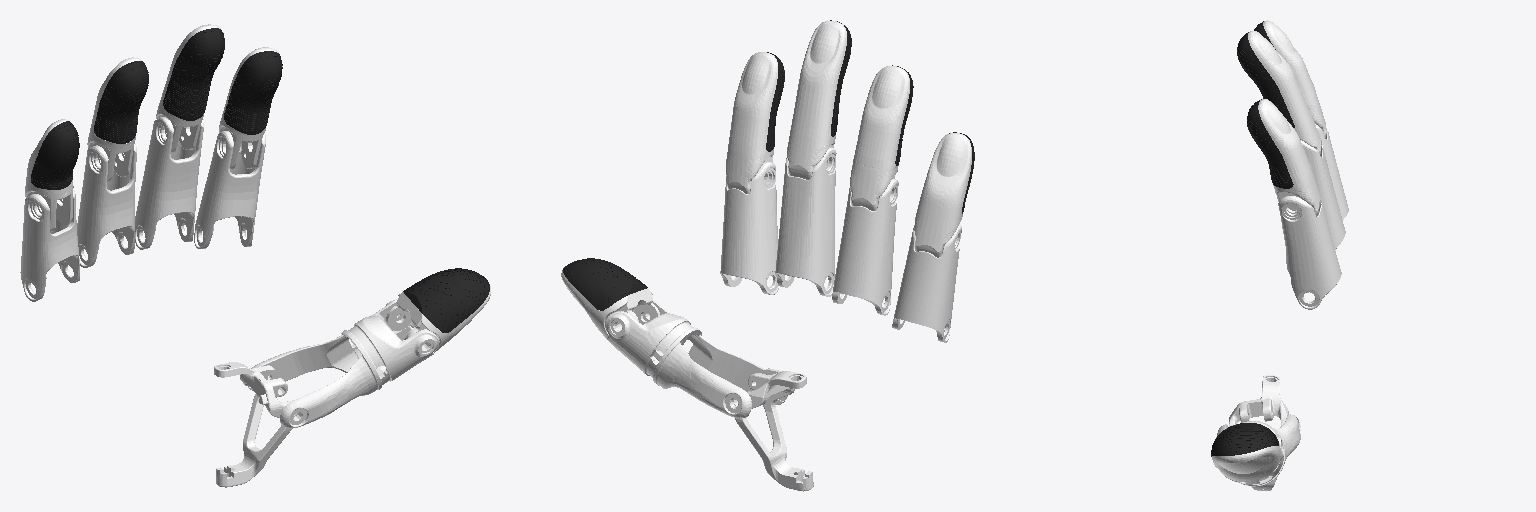
robot.urdf — DH116S-R000-A1:
<?xml version='1.0' encoding='UTF-8'?>
<!-- This URDF was automatically created by SolidWorks to URDF Exporter! Originally created by Stephen Brawner (brawner@gmail.com) 
     Commit Version: 1.6.0-4-g7f85cfe  Build Version: 1.6.7995.38578
     For more information, please see http://wiki.ros.org/sw_urdf_exporter --><robot name="DH116S-R000-A1">
  <!--
    Authoritative kinematic description for this hand is the MJCF model.

    Independent DOFs: finger11, finger12, finger21, finger31, finger41, finger51
    Passive follower joints:
      finger13 follows finger12
      finger22 follows finger21
      finger32 follows finger31
      finger42 follows finger41
      finger52 follows finger51

    Note: URDF mimic supports only linear coupling:
      q_follower = multiplier * q_driver + offset
    The MJCF model uses quadratic coupling for the passive joints. The mimic tags
    below therefore preserve the dependency and use least-squares linear fits over
    each driver's configured motion range, but they do not exactly reproduce the
    nonlinear MJCF equality constraints.
  -->
  <link name="base_link">
    <inertial>
      <origin xyz="0.000384322111287069 0.00753084251208742 0.0472909739889326" rpy="0 0 0"/>
      <mass value="0.109379461925353"/>
      <inertia ixx="4.8658626062114E-05" ixy="1.90165367140657E-07" ixz="4.76749750234747E-07" iyy="6.96839906122602E-05" iyz="-2.36133057842731E-06" izz="3.07683899448741E-05"/>
    </inertial>
    <visual>
      <origin xyz="0 0 0" rpy="0 0 0"/>
      <geometry>
        <mesh filename="package://DH116S-R000-A1/meshes/base_link.STL"/>
      </geometry>
      <material name="">
        <color rgba="1 1 1 1"/>
      </material>
    </visual>
    <collision>
      <origin xyz="0 0 0" rpy="0 0 0"/>
      <geometry>
        <mesh filename="package://DH116S-R000-A1/meshes/base_link.STL"/>
      </geometry>
    </collision>
  </link>
  <link name="finger11_link">
    <inertial>
      <origin xyz="-0.000106936701499152 -0.00887532166965714 0.00188503573341194" rpy="0 0 0"/>
      <mass value="0.00704884300354655"/>
      <inertia ixx="9.65962069608261E-07" ixy="-1.44438396657121E-08" ixz="-2.78802353633112E-08" iyy="9.82359201731221E-07" iyz="1.16859938665557E-07" izz="2.90732053006428E-07"/>
    </inertial>
    <visual>
      <origin xyz="0 0 0" rpy="0 0 0"/>
      <geometry>
        <mesh filename="package://DH116S-R000-A1/meshes/finger11_link.STL"/>
      </geometry>
      <material name="">
        <color rgba="1 1 1 1"/>
      </material>
    </visual>
    <collision>
      <origin xyz="0 0 0" rpy="0 0 0"/>
      <geometry>
        <mesh filename="package://DH116S-R000-A1/meshes/finger11_link.STL"/>
      </geometry>
    </collision>
  </link>
  <joint name="finger11" type="revolute">
    <origin xyz="0.019011443942029 -0.00780399999999971 0.0343199999999998" rpy="0 0 1.4189526818714"/>
    <parent link="base_link"/>
    <child link="finger11_link"/>
    <axis xyz="0 0 -1"/>
    <limit lower="0" upper="1.527163" effort="0" velocity="0"/>
  </joint>
  <link name="finger12_link">
    <inertial>
      <origin xyz="0.00575146979629403 -0.00980743444616855 0.019859071306553" rpy="0 0 0"/>
      <mass value="0.00572064501582461"/>
      <inertia ixx="1.07119834760592E-06" ixy="4.58213387989754E-08" ixz="-7.67707579266534E-08" iyy="1.23181109053526E-06" iyz="3.23507378708491E-07" izz="6.0079268566964E-07"/>
    </inertial>
    <visual>
      <origin xyz="0 0 0" rpy="0 0 0"/>
      <geometry>
        <mesh filename="package://DH116S-R000-A1/meshes/finger12_link.STL"/>
      </geometry>
      <material name="">
        <color rgba="1 1 1 1"/>
      </material>
    </visual>
    <collision>
      <origin xyz="0 0 0" rpy="0 0 0"/>
      <geometry>
        <mesh filename="package://DH116S-R000-A1/meshes/finger12_link.STL"/>
      </geometry>
    </collision>
  </link>
  <joint name="finger12" type="revolute">
    <origin xyz="-0.00241716818193387 -0.0149999999957004 0.00671430739411609" rpy="0.914460600969039 -0.26179938779915 0"/>
    <parent link="finger11_link"/>
    <child link="finger12_link"/>
    <axis xyz="-1 0 0"/>
    <limit lower="0" upper="1.134464" effort="0" velocity="0"/>
  </joint>
  <link name="finger13_link">
    <inertial>
      <origin xyz="0.00252081313880359 -0.00372563202308732 0.00904163814125886" rpy="0 0 0"/>
      <mass value="0.00512347606012059"/>
      <inertia ixx="2.40947986098038E-07" ixy="-5.09796574066595E-10" ixz="-9.60704042330482E-10" iyy="3.07751181192004E-07" iyz="-7.35260411693152E-09" izz="1.61697663271219E-07"/>
    </inertial>
    <visual>
      <origin xyz="0 0 0" rpy="0 0 0"/>
      <geometry>
        <mesh filename="package://DH116S-R000-A1/meshes/finger13_link.STL"/>
      </geometry>
      <material name="">
        <color rgba="1 1 1 1"/>
      </material>
    </visual>
    <collision>
      <origin xyz="0 0 0" rpy="0 0 0"/>
      <geometry>
        <mesh filename="package://DH116S-R000-A1/meshes/finger13_link.STL"/>
      </geometry>
    </collision>
  </link>
  <joint name="finger13" type="revolute">
    <origin xyz="0.00598654106733671 -0.0125165261747051 0.0381626484720598" rpy="0.382919042912385 0.147573481949468 0.0154304498115495"/>
    <parent link="finger12_link"/>
    <child link="finger13_link"/>
    <axis xyz="-1 0 0"/>
    <limit lower="0" upper="1.13" effort="0" velocity="0"/>
    <mimic joint="finger12" multiplier="0.8626" offset="-0.003015929"/>
  </joint>
  <link name="finger14_link">
    <inertial>
      <origin xyz="0.00249769126018826 0.00167067101210644 0.0123801371744446" rpy="0 0 0"/>
      <mass value="0.00240482348656883"/>
      <inertia ixx="6.51224324821768E-08" ixy="-2.76696868457692E-10" ixz="-6.12678170657889E-10" iyy="9.9767942266961E-08" iyz="3.06755746735259E-09" izz="5.5208299164458E-08"/>
    </inertial>
    <visual>
      <origin xyz="0 0 0" rpy="0 0 0"/>
      <geometry>
        <mesh filename="package://DH116S-R000-A1/meshes/finger14_link.STL"/>
      </geometry>
      <material name="">
        <color rgba="0.2 0.2 0.2 1"/>
      </material>
    </visual>
    <collision>
      <origin xyz="0 0 0" rpy="0 0 0"/>
      <geometry>
        <mesh filename="package://DH116S-R000-A1/meshes/finger14_link.STL"/>
      </geometry>
    </collision>
  </link>
  <joint name="finger14" type="fixed">
    <origin xyz="0 0 0" rpy="0 0 0"/>
    <parent link="finger13_link"/>
    <child link="finger14_link"/>
    <axis xyz="0 0 0"/>
  </joint>
  <link name="finger21_link">
    <inertial>
      <origin xyz="0.00027210041910733 0.00170234735088368 0.014516323212758" rpy="0 0 0"/>
      <mass value="0.00393774528740839"/>
      <inertia ixx="3.16719166363702E-07" ixy="4.75695190346559E-09" ixz="1.33068275020846E-09" iyy="3.45533063039298E-07" iyz="7.7985196786372E-09" izz="1.51382459897184E-07"/>
    </inertial>
    <visual>
      <origin xyz="0 0 0" rpy="0 0 0"/>
      <geometry>
        <mesh filename="package://DH116S-R000-A1/meshes/finger21_link.STL"/>
      </geometry>
      <material name="">
        <color rgba="1 1 1 1"/>
      </material>
    </visual>
    <collision>
      <origin xyz="0 0 0" rpy="0 0 0"/>
      <geometry>
        <mesh filename="package://DH116S-R000-A1/meshes/finger21_link.STL"/>
      </geometry>
    </collision>
  </link>
  <joint name="finger21" type="revolute">
    <origin xyz="0.0262687686016299 0.00528244145664834 0.0838772330726273" rpy="0.184030828348921 0.0900710961718212 0"/>
    <parent link="base_link"/>
    <child link="finger21_link"/>
    <axis xyz="1 0 0"/>
    <limit lower="0" upper="1.256637" effort="0" velocity="0"/>
  </joint>
  <link name="finger22_link">
    <inertial>
      <origin xyz="0.000180892622891587 0.00133699393436336 0.010912976228776" rpy="0 0 0"/>
      <mass value="0.00359509305446838"/>
      <inertia ixx="3.71495920772452E-07" ixy="3.3566423592835E-10" ixz="8.81868087157963E-09" iyy="3.74339102526511E-07" iyz="4.09550241976548E-08" izz="6.27179802580373E-08"/>
    </inertial>
    <visual>
      <origin xyz="0 0 0" rpy="0 0 0"/>
      <geometry>
        <mesh filename="package://DH116S-R000-A1/meshes/finger22_link.STL"/>
      </geometry>
      <material name="">
        <color rgba="1 1 1 1"/>
      </material>
    </visual>
    <collision>
      <origin xyz="0 0 0" rpy="0 0 0"/>
      <geometry>
        <mesh filename="package://DH116S-R000-A1/meshes/finger22_link.STL"/>
      </geometry>
    </collision>
  </link>
  <joint name="finger22" type="revolute">
    <origin xyz="0 0 0.028026675184573" rpy="0 0 0"/>
    <parent link="finger21_link"/>
    <child link="finger22_link"/>
    <axis xyz="1 0 0"/>
    <limit lower="0" upper="1.75" effort="0" velocity="0"/>
    <mimic joint="finger21" multiplier="1.4238" offset="-0.064994316"/>
  </joint>
  <link name="finger23_link">
    <inertial>
      <origin xyz="-0.000690109619396834 -0.00377783340062988 0.0191163501361598" rpy="0 0 0"/>
      <mass value="0.00194916130998001"/>
      <inertia ixx="9.25442673743886E-08" ixy="3.79093542922402E-10" ixz="3.55204790224285E-09" iyy="9.46455434630362E-08" iyz="2.17891055188829E-08" izz="3.02508825822761E-08"/>
    </inertial>
    <visual>
      <origin xyz="0 0 0" rpy="0 0 0"/>
      <geometry>
        <mesh filename="package://DH116S-R000-A1/meshes/finger23_link.STL"/>
      </geometry>
      <material name="">
        <color rgba="0.2 0.2 0.2 1"/>
      </material>
    </visual>
    <collision>
      <origin xyz="0 0 0" rpy="0 0 0"/>
      <geometry>
        <mesh filename="package://DH116S-R000-A1/meshes/finger23_link.STL"/>
      </geometry>
    </collision>
  </link>
  <joint name="finger23" type="fixed">
    <origin xyz="0 0 0" rpy="0 0 0"/>
    <parent link="finger22_link"/>
    <child link="finger23_link"/>
    <axis xyz="0 0 0"/>
  </joint>
  <link name="finger31_link">
    <inertial>
      <origin xyz="-2.41743304470188E-06 0.0016881536103133 0.0166092629083552" rpy="0 0 0"/>
      <mass value="0.00465632374460654"/>
      <inertia ixx="4.64032038497059E-07" ixy="-6.14756143609671E-11" ixz="5.30642140220418E-11" iyy="4.96217078056825E-07" iyz="1.19847357277137E-08" izz="1.78406731079551E-07"/>
    </inertial>
    <visual>
      <origin xyz="0 0 0" rpy="0 0 0"/>
      <geometry>
        <mesh filename="package://DH116S-R000-A1/meshes/finger31_link.STL"/>
      </geometry>
      <material name="">
        <color rgba="1 1 1 1"/>
      </material>
    </visual>
    <collision>
      <origin xyz="0 0 0" rpy="0 0 0"/>
      <geometry>
        <mesh filename="package://DH116S-R000-A1/meshes/finger31_link.STL"/>
      </geometry>
    </collision>
  </link>
  <joint name="finger31" type="revolute">
    <origin xyz="0.00874401205559361 0.00650966935499851 0.0881661201014335" rpy="0.175821944347936 0.05205044550937 -0.0495268334341439"/>
    <parent link="base_link"/>
    <child link="finger31_link"/>
    <axis xyz="1 0 0"/>
    <limit lower="0" upper="1.256637" effort="0" velocity="0"/>
  </joint>
  <link name="finger32_link">
    <inertial>
      <origin xyz="-4.52052482557974E-07 0.000239188481448136 0.0125647103929899" rpy="0 0 0"/>
      <mass value="0.00396485659955852"/>
      <inertia ixx="5.13613810914939E-07" ixy="-3.89316581101276E-10" ixz="1.51691231313048E-09" iyy="5.04420042058448E-07" iyz="9.32849272033081E-08" izz="8.36320010149996E-08"/>
    </inertial>
    <visual>
      <origin xyz="0 0 0" rpy="0 0 0"/>
      <geometry>
        <mesh filename="package://DH116S-R000-A1/meshes/finger32_link.STL"/>
      </geometry>
      <material name="">
        <color rgba="1 1 1 1"/>
      </material>
    </visual>
    <collision>
      <origin xyz="0 0 0" rpy="0 0 0"/>
      <geometry>
        <mesh filename="package://DH116S-R000-A1/meshes/finger32_link.STL"/>
      </geometry>
    </collision>
  </link>
  <joint name="finger32" type="revolute">
    <origin xyz="0 -0.000265259842373017 0.0325298807757662" rpy="0 0 0"/>
    <parent link="finger31_link"/>
    <child link="finger32_link"/>
    <axis xyz="1 0 0"/>
    <limit lower="0" upper="1.75" effort="0" velocity="0"/>
    <mimic joint="finger31" multiplier="1.451" offset="-0.075338882"/>
  </joint>
  <link name="finger33_link">
    <inertial>
      <origin xyz="1.11963736759702E-06 -0.00561969015110605 0.021082467343861" rpy="0 0 0"/>
      <mass value="0.00227280089263279"/>
      <inertia ixx="1.47858333672132E-07" ixy="1.18576994854538E-12" ixz="-4.80407376657536E-12" iyy="1.41914584192602E-07" iyz="4.17788434922029E-08" izz="4.21604565911276E-08"/>
    </inertial>
    <visual>
      <origin xyz="0 0 0" rpy="0 0 0"/>
      <geometry>
        <mesh filename="package://DH116S-R000-A1/meshes/finger33_link.STL"/>
      </geometry>
      <material name="">
        <color rgba="0.2 0.2 0.2 1"/>
      </material>
    </visual>
    <collision>
      <origin xyz="0 0 0" rpy="0 0 0"/>
      <geometry>
        <mesh filename="package://DH116S-R000-A1/meshes/finger33_link.STL"/>
      </geometry>
    </collision>
  </link>
  <joint name="finger33" type="fixed">
    <origin xyz="0 0 0" rpy="0 0 0"/>
    <parent link="finger32_link"/>
    <child link="finger33_link"/>
    <axis xyz="0 0 0"/>
  </joint>
  <link name="finger41_link">
    <inertial>
      <origin xyz="-9.92502562325998E-05 0.00187501159969453 0.014820900729557" rpy="0 0 0"/>
      <mass value="0.0041427825906401"/>
      <inertia ixx="3.6220134054032E-07" ixy="-1.65704576345153E-09" ixz="-5.59535256816269E-10" iyy="3.93202304061915E-07" iyz="1.16626470854897E-08" izz="1.57968682958101E-07"/>
    </inertial>
    <visual>
      <origin xyz="0 0 0" rpy="0 0 0"/>
      <geometry>
        <mesh filename="package://DH116S-R000-A1/meshes/finger41_link.STL"/>
      </geometry>
      <material name="">
        <color rgba="1 1 1 1"/>
      </material>
    </visual>
    <collision>
      <origin xyz="0 0 0" rpy="0 0 0"/>
      <geometry>
        <mesh filename="package://DH116S-R000-A1/meshes/finger41_link.STL"/>
      </geometry>
    </collision>
  </link>
  <joint name="finger41" type="revolute">
    <origin xyz="-0.00884629646917347 0.007306751562741 0.0874130612220856" rpy="0.185216698200614 -0.0252760066009568 0"/>
    <parent link="base_link"/>
    <child link="finger41_link"/>
    <axis xyz="1 0 0"/>
    <limit lower="0" upper="1.256637" effort="0" velocity="0"/>
  </joint>
  <link name="finger42_link">
    <inertial>
      <origin xyz="-7.89219634561439E-05 0.00097321984233115 0.0112167692179996" rpy="0 0 0"/>
      <mass value="0.00382855237153465"/>
      <inertia ixx="3.99488238110434E-07" ixy="-1.85363448432404E-10" ixz="-4.12189120722601E-10" iyy="4.00190012613912E-07" iyz="5.18765070283196E-08" izz="6.93581584914543E-08"/>
    </inertial>
    <visual>
      <origin xyz="0 0 0" rpy="0 0 0"/>
      <geometry>
        <mesh filename="package://DH116S-R000-A1/meshes/finger42_link.STL"/>
      </geometry>
      <material name="">
        <color rgba="1 1 1 1"/>
      </material>
    </visual>
    <collision>
      <origin xyz="0 0 0" rpy="0 0 0"/>
      <geometry>
        <mesh filename="package://DH116S-R000-A1/meshes/finger42_link.STL"/>
      </geometry>
    </collision>
  </link>
  <joint name="finger42" type="revolute">
    <origin xyz="0 0 0.0295285227667386" rpy="0 0 0"/>
    <parent link="finger41_link"/>
    <child link="finger42_link"/>
    <axis xyz="1 0 0"/>
    <limit lower="0" upper="1.75" effort="0" velocity="0"/>
    <mimic joint="finger41" multiplier="1.4752" offset="-0.080705770"/>
  </joint>
  <link name="finger43_link">
    <inertial>
      <origin xyz="0.000145172504775415 -0.00439620819878777 0.019822139983784" rpy="0 0 0"/>
      <mass value="0.00194917989840034"/>
      <inertia ixx="9.24793211748131E-08" ixy="-2.25304567561179E-11" ixz="-1.15239273424032E-09" iyy="9.37057773401234E-08" iyz="2.34518680404736E-08" izz="3.12581553687104E-08"/>
    </inertial>
    <visual>
      <origin xyz="0 0 0" rpy="0 0 0"/>
      <geometry>
        <mesh filename="package://DH116S-R000-A1/meshes/finger43_link.STL"/>
      </geometry>
      <material name="">
        <color rgba="0.2 0.2 0.2 1"/>
      </material>
    </visual>
    <collision>
      <origin xyz="0 0 0" rpy="0 0 0"/>
      <geometry>
        <mesh filename="package://DH116S-R000-A1/meshes/finger43_link.STL"/>
      </geometry>
    </collision>
  </link>
  <joint name="finger43" type="fixed">
    <origin xyz="0 0 0" rpy="0 0 0"/>
    <parent link="finger42_link"/>
    <child link="finger43_link"/>
    <axis xyz="0 0 0"/>
  </joint>
  <link name="finger51_link">
    <inertial>
      <origin xyz="-2.33333913605971E-06 0.00181485062221548 0.0131392699022088" rpy="0 0 0"/>
      <mass value="0.00345037170327943"/>
      <inertia ixx="2.37940412354949E-07" ixy="-3.80727108476698E-12" ixz="8.69321923902387E-11" iyy="2.69111254422569E-07" iyz="7.24144543213933E-09" izz="1.35191102489079E-07"/>
    </inertial>
    <visual>
      <origin xyz="0 0 0" rpy="0 0 0"/>
      <geometry>
        <mesh filename="package://DH116S-R000-A1/meshes/finger51_link.STL"/>
      </geometry>
      <material name="">
        <color rgba="1 1 1 1"/>
      </material>
    </visual>
    <collision>
      <origin xyz="0 0 0" rpy="0 0 0"/>
      <geometry>
        <mesh filename="package://DH116S-R000-A1/meshes/finger51_link.STL"/>
      </geometry>
    </collision>
  </link>
  <joint name="finger51" type="revolute">
    <origin xyz="-0.0263133099109462 0.00562794981638235 0.0830420444966198" rpy="0.153405557961376 -0.116668550344774 0.149285285649185"/>
    <parent link="base_link"/>
    <child link="finger51_link"/>
    <axis xyz="1 0 0"/>
    <limit lower="0" upper="1.256637" effort="0" velocity="0"/>
  </joint>
  <link name="finger52_link">
    <inertial>
      <origin xyz="-3.15300649285088E-05 0.00108071309102561 0.00848073574589434" rpy="0 0 0"/>
      <mass value="0.0034586827978682"/>
      <inertia ixx="2.5318219393825E-07" ixy="-5.26062638639635E-11" ixz="1.06905539796088E-09" iyy="2.54247652609832E-07" iyz="2.38936859610866E-08" izz="6.41400708772532E-08"/>
    </inertial>
    <visual>
      <origin xyz="0 0 0" rpy="0 0 0"/>
      <geometry>
        <mesh filename="package://DH116S-R000-A1/meshes/finger52_link.STL"/>
      </geometry>
      <material name="">
        <color rgba="1 1 1 1"/>
      </material>
    </visual>
    <collision>
      <origin xyz="0 0 0" rpy="0 0 0"/>
      <geometry>
        <mesh filename="package://DH116S-R000-A1/meshes/finger52_link.STL"/>
      </geometry>
    </collision>
  </link>
  <joint name="finger52" type="revolute">
    <origin xyz="0 0 0.0250241718362191" rpy="0 0 0"/>
    <parent link="finger51_link"/>
    <child link="finger52_link"/>
    <axis xyz="1 0 0"/>
    <limit lower="0" upper="1.75" effort="0" velocity="0"/>
    <mimic joint="finger51" multiplier="1.3517" offset="-0.085489717"/>
  </joint>
  <link name="finger53_link">
    <inertial>
      <origin xyz="-0.00010159715941721 -0.00420240434545652 0.0167623091483986" rpy="0 0 0"/>
      <mass value="0.00149578721592064"/>
      <inertia ixx="4.39306653069545E-08" ixy="5.60547792622162E-11" ixz="-2.47230752349555E-10" iyy="4.56160148535183E-08" iyz="1.05043396073308E-08" izz="2.11073455747021E-08"/>
    </inertial>
    <visual>
      <origin xyz="0 0 0" rpy="0 0 0"/>
      <geometry>
        <mesh filename="package://DH116S-R000-A1/meshes/finger53_link.STL"/>
      </geometry>
      <material name="">
        <color rgba="0.2 0.2 0.2 1"/>
      </material>
    </visual>
    <collision>
      <origin xyz="0 0 0" rpy="0 0 0"/>
      <geometry>
        <mesh filename="package://DH116S-R000-A1/meshes/finger53_link.STL"/>
      </geometry>
    </collision>
  </link>
  <joint name="finger53" type="fixed">
    <origin xyz="0 0 0" rpy="0 0 0"/>
    <parent link="finger52_link"/>
    <child link="finger53_link"/>
    <axis xyz="0 0 0"/>
  </joint>
</robot>

--- Facts derived from the render (not from the file) ---
3 views of the same robot in one strip: view 1: azimuth 30°, elevation 25°; view 2: azimuth 150°, elevation 25°; view 3: azimuth 270°, elevation 25° (orthographic).
Model DH116S-R000-A1 with 17 links and 16 joints (11 revolute, 5 fixed), rooted at base_link, posed every joint at zero.
Visible links, largest first — view 1: finger12_link, finger31_link, finger41_link, finger21_link, finger51_link, finger11_link, finger33_link, finger14_link, finger23_link, finger43_link, finger53_link, finger13_link (+4 smaller); view 2: finger12_link, finger31_link, finger32_link, finger41_link, finger21_link, finger42_link, finger22_link, finger52_link, finger51_link, finger11_link, finger14_link, finger13_link (+2 smaller); view 3: finger21_link, finger22_link, finger32_link, finger13_link, finger11_link, finger42_link, finger14_link, finger31_link, finger23_link, finger33_link, finger12_link, finger41_link.
Link boxes in pixels (box(x1,y1,x2,y2)): finger12_link: box(248, 299, 439, 428); finger31_link: box(135, 117, 203, 249); finger41_link: box(77, 144, 136, 267); finger21_link: box(194, 131, 265, 248); finger51_link: box(20, 188, 79, 301); finger11_link: box(214, 362, 298, 487); finger33_link: box(163, 28, 224, 120); finger14_link: box(403, 268, 489, 332); finger23_link: box(224, 51, 282, 134); finger43_link: box(94, 61, 148, 143); finger53_link: box(31, 121, 79, 189); finger13_link: box(386, 286, 490, 352); finger12_link: box(605, 301, 787, 417); finger31_link: box(775, 147, 836, 296); finger32_link: box(787, 21, 846, 179); finger41_link: box(832, 178, 898, 315); finger21_link: box(720, 162, 778, 294); finger42_link: box(850, 66, 909, 210); finger22_link: box(726, 52, 777, 193); finger52_link: box(914, 133, 971, 257); finger51_link: box(892, 224, 961, 342); finger11_link: box(733, 368, 813, 491); finger14_link: box(563, 258, 647, 310); finger13_link: box(561, 270, 659, 339); finger21_link: box(1278, 196, 1341, 309); finger22_link: box(1258, 99, 1320, 216); finger32_link: box(1248, 31, 1321, 153); finger13_link: box(1212, 444, 1280, 484); finger11_link: box(1229, 375, 1288, 490); finger42_link: box(1263, 20, 1326, 137); finger14_link: box(1211, 423, 1278, 456); finger31_link: box(1301, 140, 1345, 249); finger23_link: box(1247, 99, 1293, 188); finger33_link: box(1237, 32, 1294, 127); finger12_link: box(1215, 414, 1300, 486); finger41_link: box(1315, 124, 1348, 219).
Bounding box of the posed robot: 0.1312 × 0.039 × 0.1375 m (x, y, z).
16 mesh visuals loaded from 17 distinct referenced files (16 binary STL); not drawn: 1 (reference not matched to a file when rendering).
